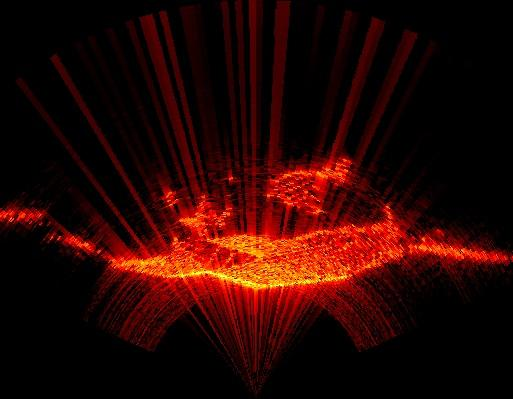shipwreck: (0, 205, 512, 287), (271, 161, 348, 222)
